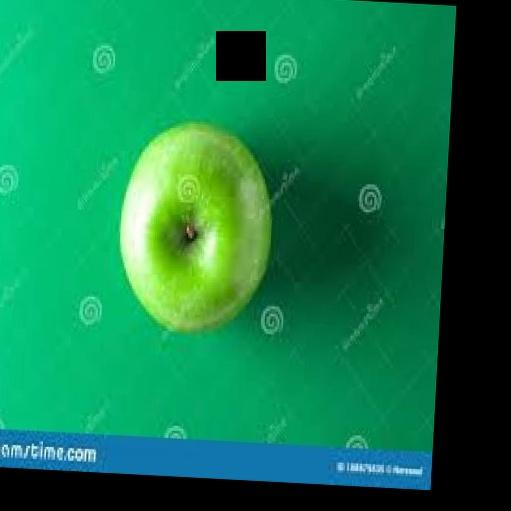green apple: (113, 120, 276, 328)
